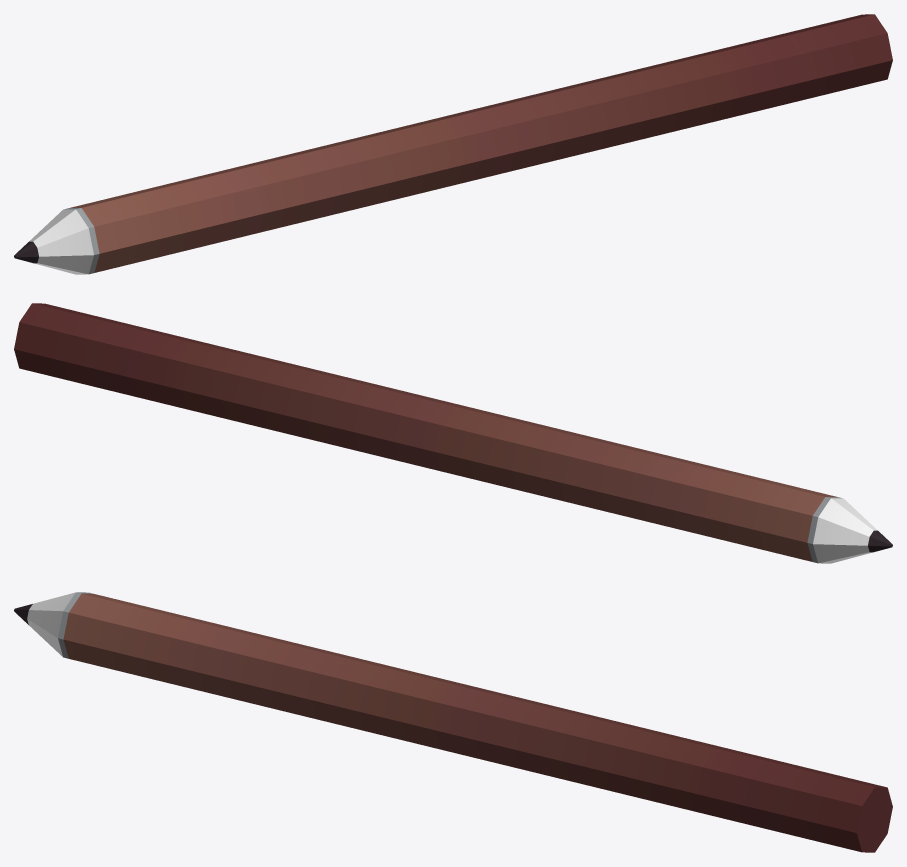
File: eye_brow.fbx
3 renders of one model, top to bottom at view 1: azimuth 30°, elevation 25°; view 2: azimuth 150°, elevation 25°; view 3: azimuth 330°, elevation 25°, orthographic.
Parts seen in each view (by area): view 1: eye_brow; view 2: eye_brow; view 3: eye_brow.
Part boxes in pixels (x1,y1,x2,y2): eye_brow: (14, 14, 892, 274); eye_brow: (14, 303, 892, 563); eye_brow: (14, 592, 892, 852).
Bounding box in the file's own units: 5.73 × 0.4168 × 0.4168.
